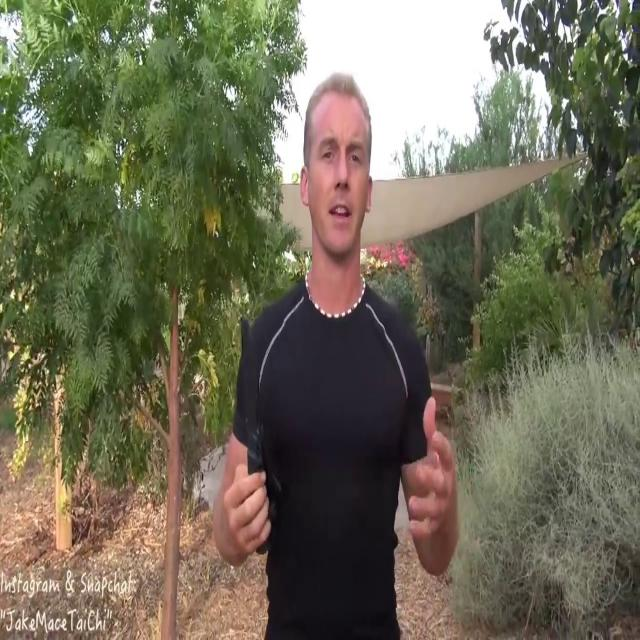knife: (236, 301, 268, 559)
